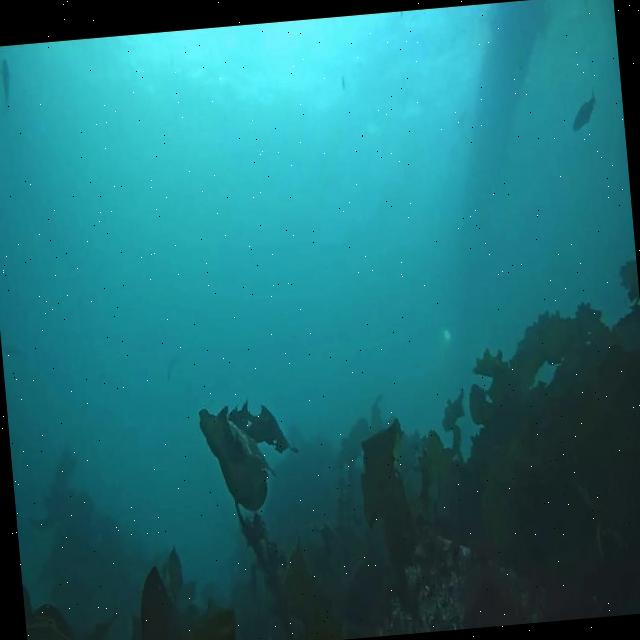fish: (569, 92, 599, 134), (0, 59, 12, 105)
